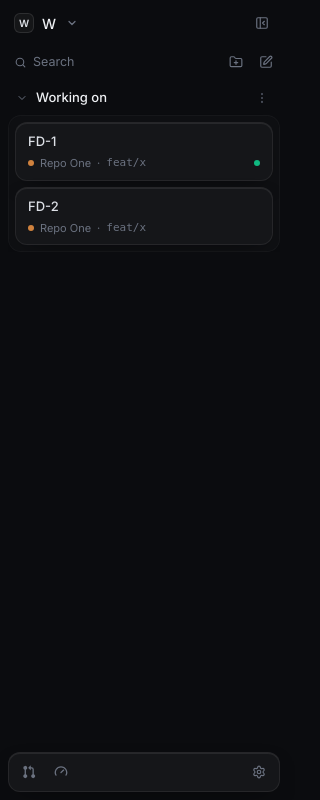
Test: Sidebar tree › Sidebar space rail › switches workspaces from the header picker
Step 1. Click the button named "Switch workspace, current: W" → [46, 23], box [8,7,84,39]
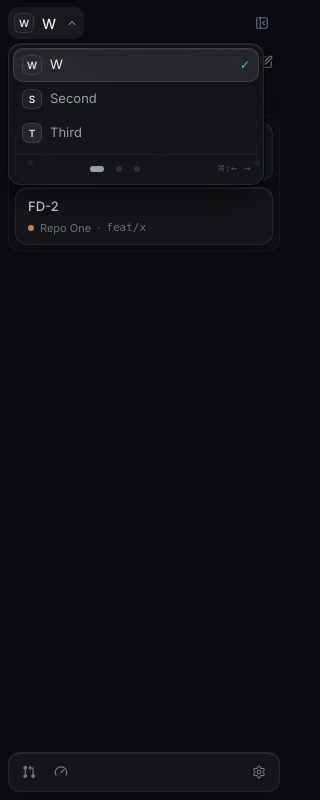
Expected: the menu named "Workspaces" is shown, [8,43,264,184]
Step 2. Click the menu item "T Third" → [136, 133], box [13,116,259,150]
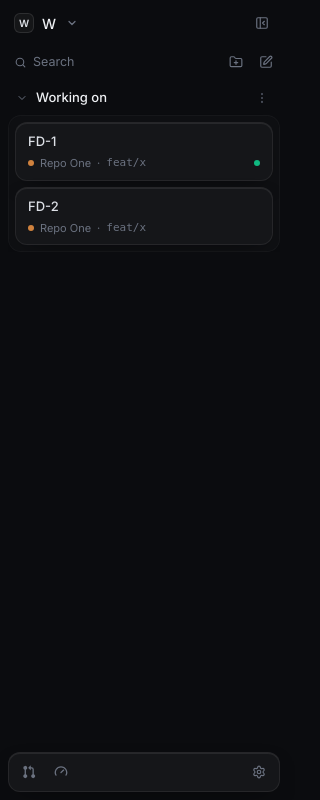
Expected: the menu "Workspaces" is gone
